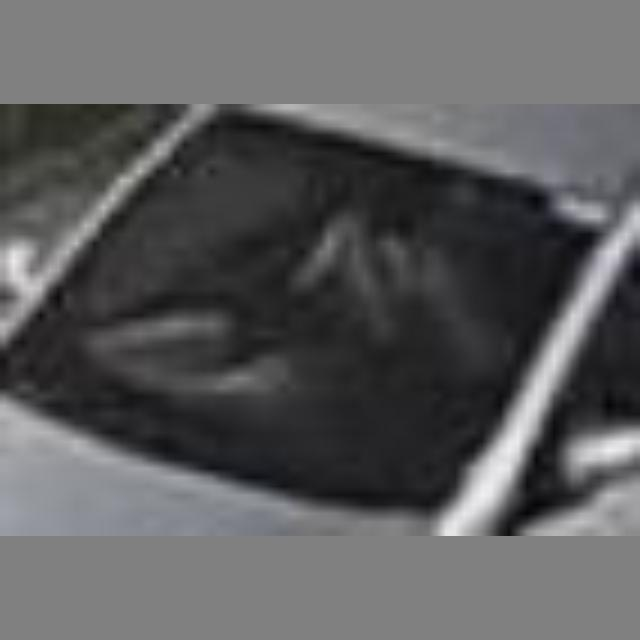pakai: (270, 176, 523, 392)
